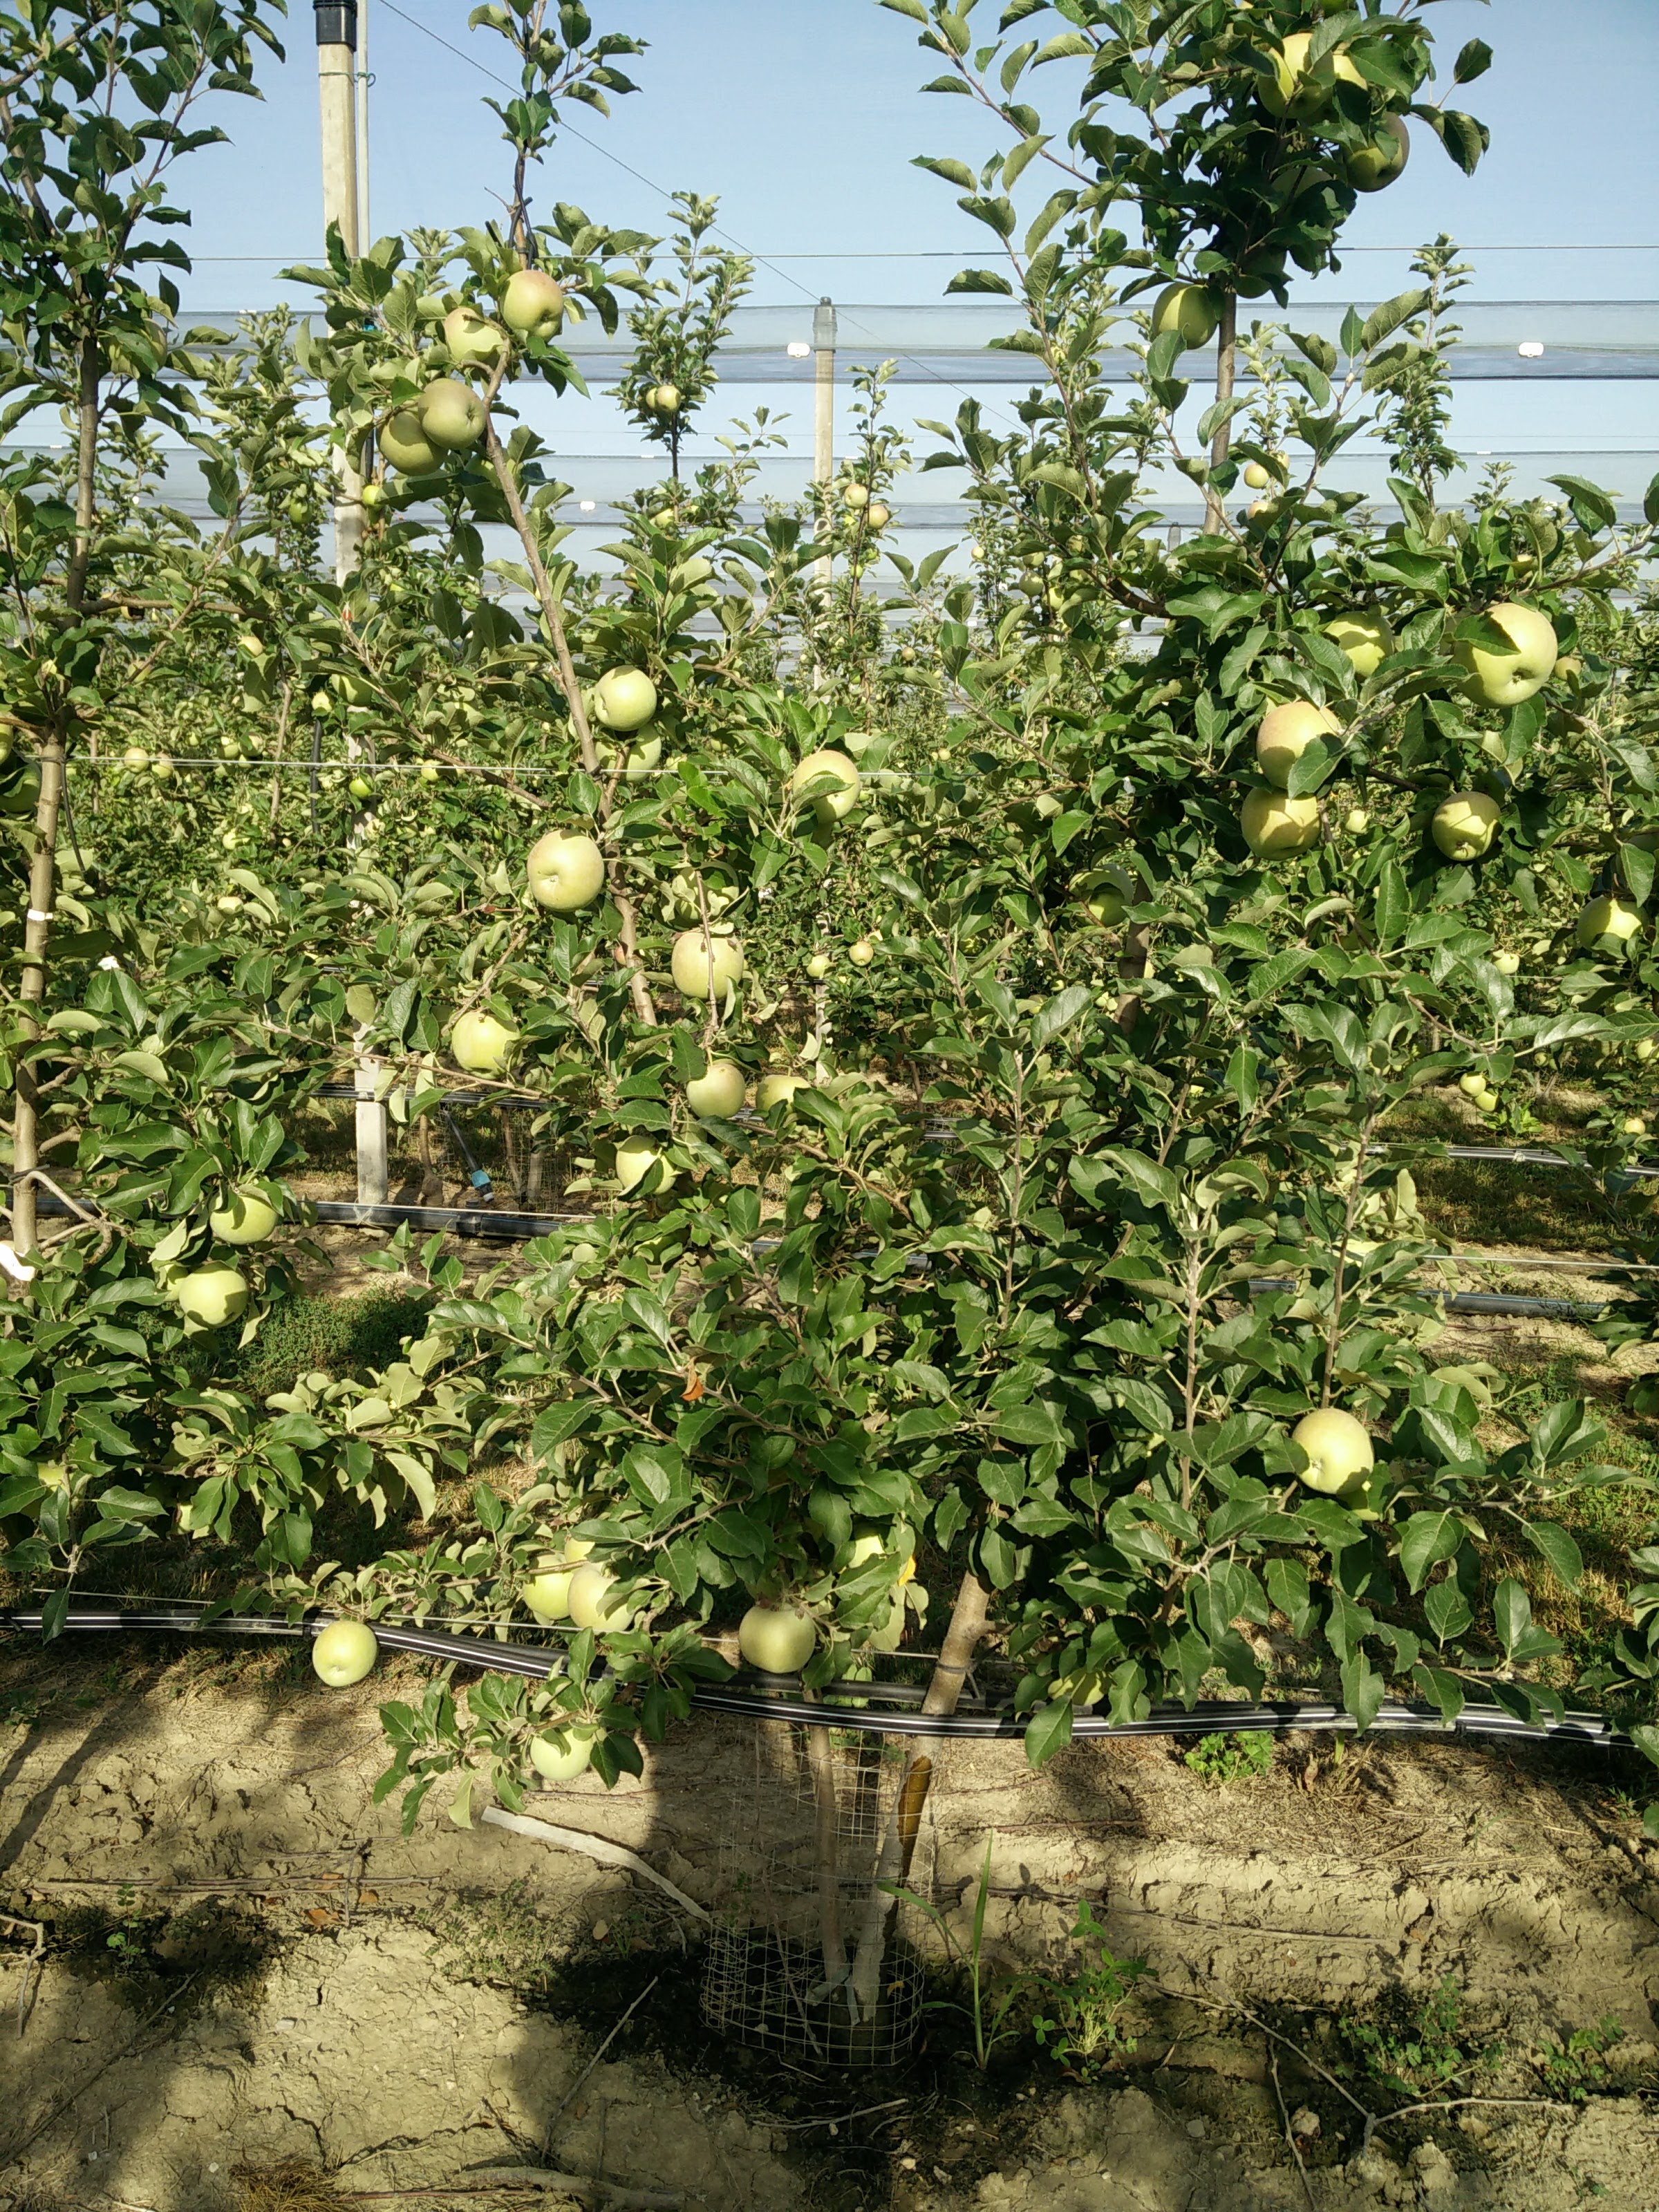apple: (1456, 602, 1553, 704), (1286, 1405, 1371, 1499), (519, 830, 605, 914), (1254, 706, 1340, 785), (736, 1601, 816, 1678), (414, 376, 495, 451), (1240, 783, 1319, 858), (669, 928, 747, 1000), (304, 1620, 379, 1691), (1429, 789, 1501, 859), (207, 1179, 283, 1245), (170, 1263, 250, 1325), (493, 269, 564, 338), (613, 1128, 682, 1199), (790, 749, 863, 817), (444, 1011, 517, 1076), (682, 1056, 749, 1125), (379, 406, 435, 482), (588, 667, 656, 729)
